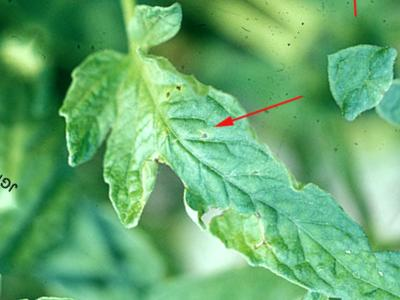Tomato leaf bacterial spot: (14, 9, 400, 300)
